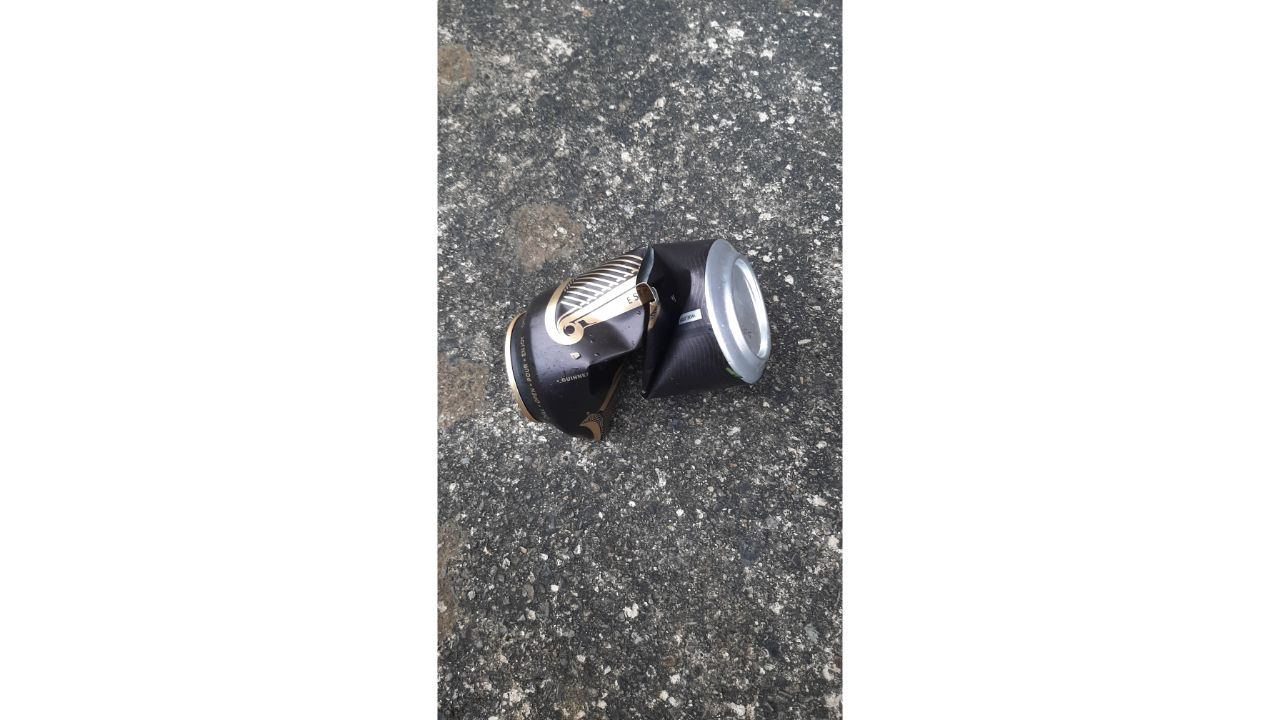Can: (500, 239, 773, 443)
